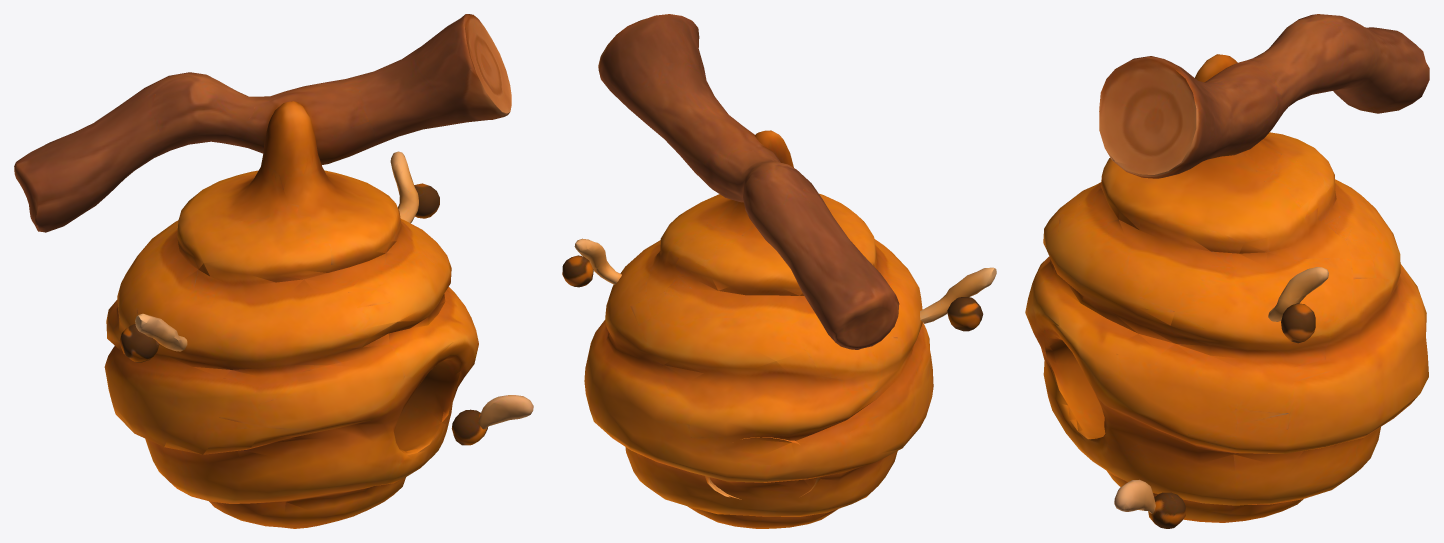
File: colmena.glb
3 views of the same model, side by side, from view 1: azimuth 30°, elevation 25°; view 2: azimuth 150°, elevation 25°; view 3: azimuth 270°, elevation 25° (orthographic). The views are drawn at different scales.
Parts seen in each view (by area): view 1: colmena_malla; view 2: colmena_malla; view 3: colmena_malla.
Part boxes in pixels (left/top/right/bottom): colmena_malla: left=14, top=14, right=533, bottom=528; colmena_malla: left=562, top=14, right=996, bottom=528; colmena_malla: left=1025, top=14, right=1429, bottom=528.
Bounding box in the file's own units: 0.4232 × 0.4915 × 0.3458.
1 material, 1 textured.
